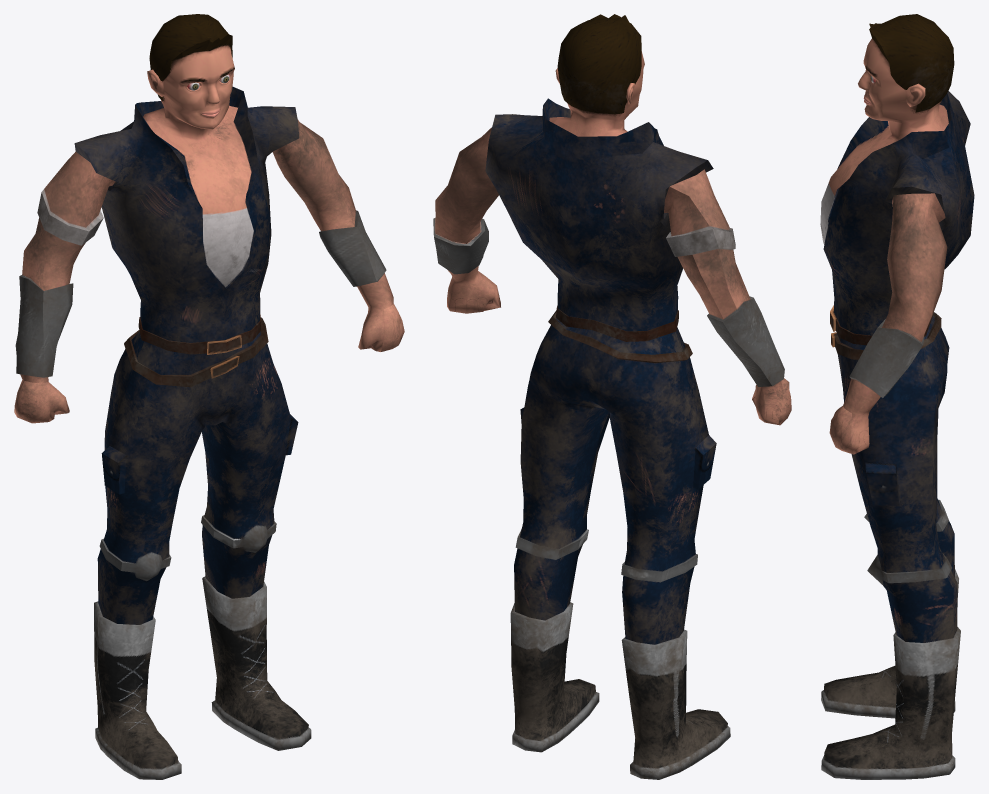
Rendered from Anim_idle_jugador.0032.obj.
3 renders of one model, left to right at view 1: azimuth 30°, elevation 25°; view 2: azimuth 150°, elevation 25°; view 3: azimuth 270°, elevation 25°, orthographic.
Parts seen in each view (by area): view 1: polySurface1; view 2: polySurface1; view 3: polySurface1.
Boxes of the visible parts, x1,y1,x2,y2 form: polySurface1: [14, 14, 404, 779]; polySurface1: [433, 14, 791, 779]; polySurface1: [820, 14, 974, 779].
Bounding box in the file's own units: 5.07 × 9.64 × 1.86.
